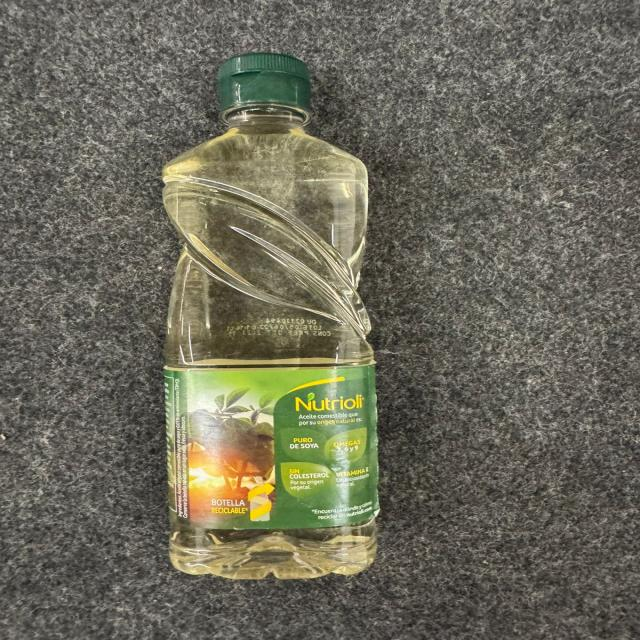ACEITE NUTRIOLI 400 ML: (152, 46, 383, 584)
